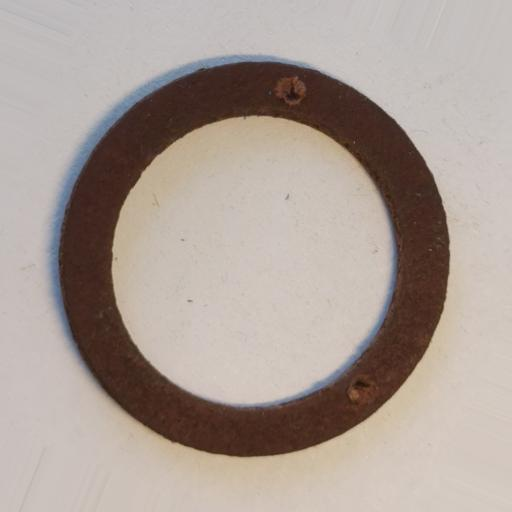defect: (346, 375, 379, 407), (274, 75, 307, 105)
